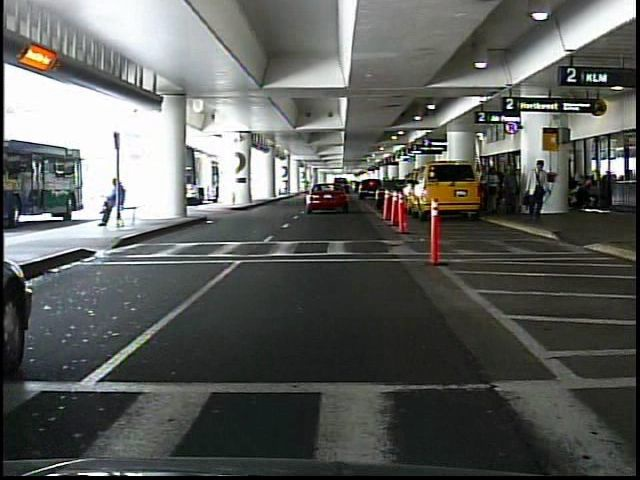person: (523, 158, 550, 218), (503, 163, 521, 219), (486, 166, 500, 211)
